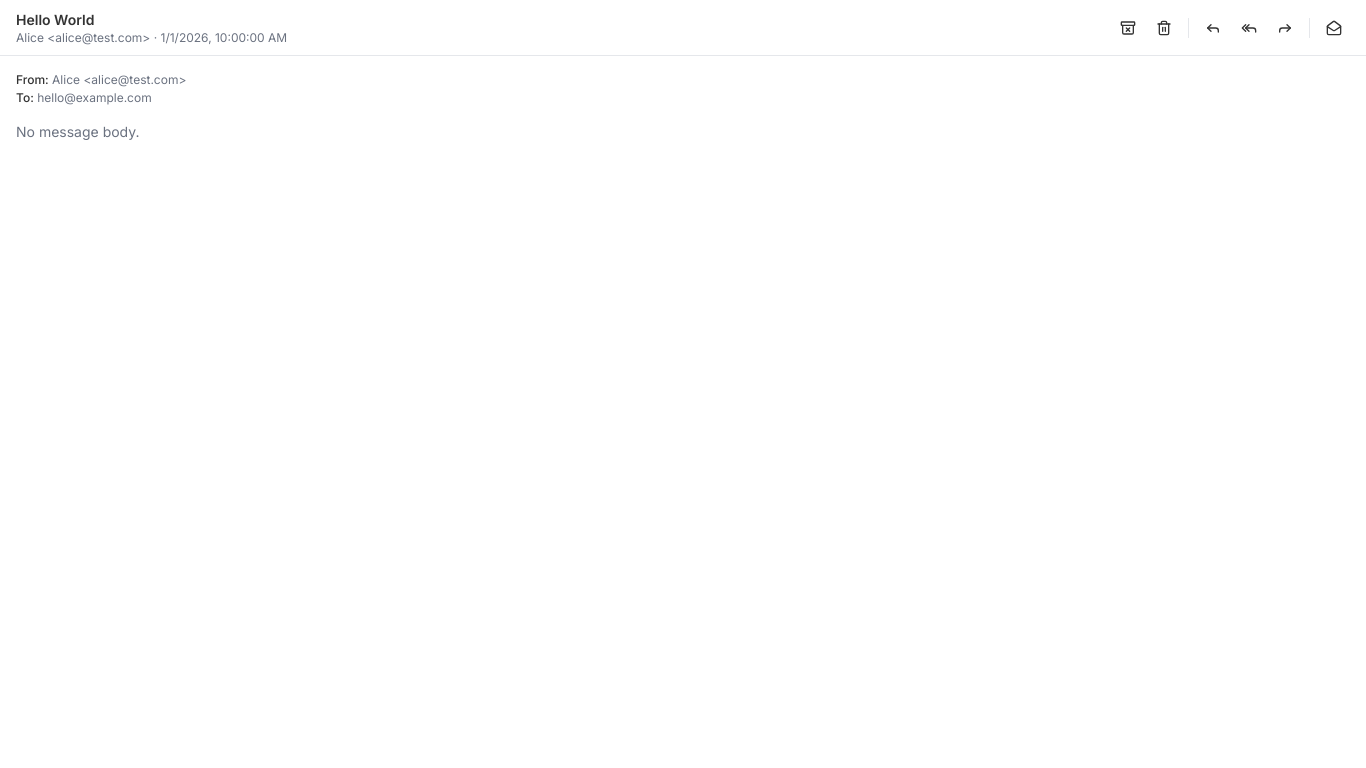
MessageDetail › opens ReplyComposer in replyAll mode on Reply All click
This screenshot has width=1366, height=768.
Click the button named "reply all" at (1249, 28), box [1233,12,1265,44]
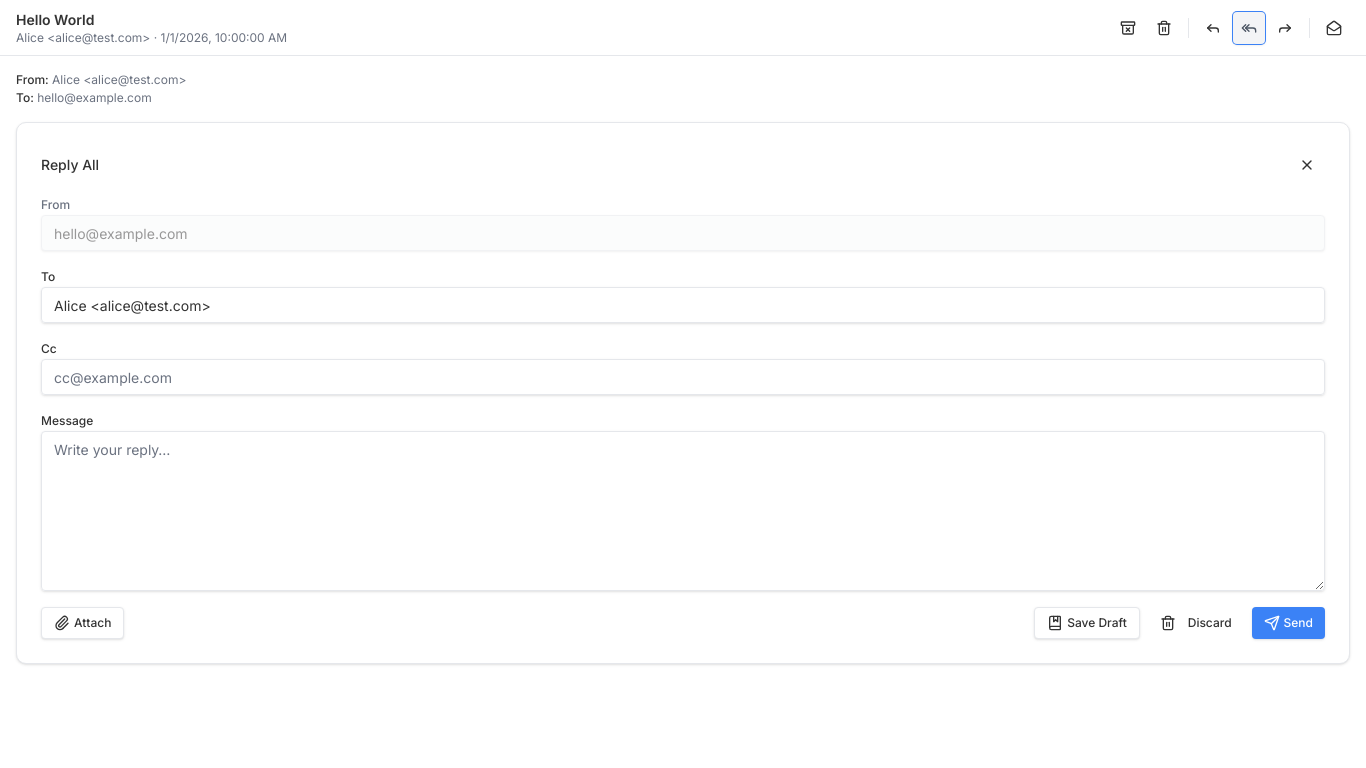
expect the element with test id "reply-composer" is shown: met
expect the field with test id "reply-cc" is shown: met, box [41,359,1325,395]
